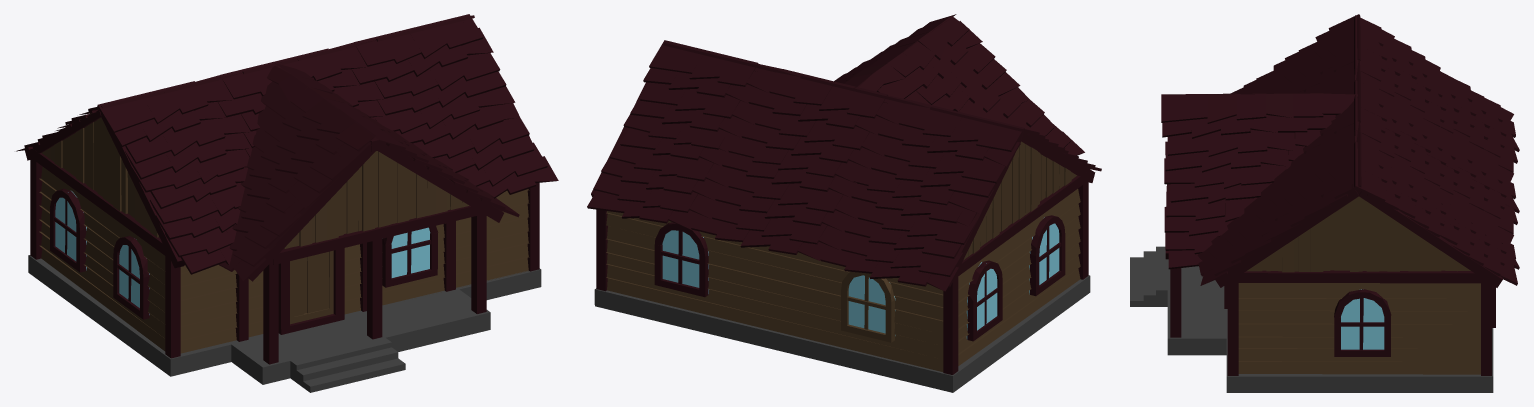
Rendered from lowHouse1.fbx.
3 renders of one model, left to right at view 1: azimuth 30°, elevation 25°; view 2: azimuth 150°, elevation 25°; view 3: azimuth 270°, elevation 25°, orthographic. The views are drawn at different scales.
Visible parts, largest first — view 1: main_LOD0; view 2: main_LOD0; view 3: main_LOD0.
Part boxes in pixels (bbox=[...]): main_LOD0: bbox=[16, 14, 558, 392]; main_LOD0: bbox=[587, 14, 1101, 392]; main_LOD0: bbox=[1130, 14, 1519, 392].
Size of what is drawn, in the model's own units: 2143 by 1209 by 2041.
